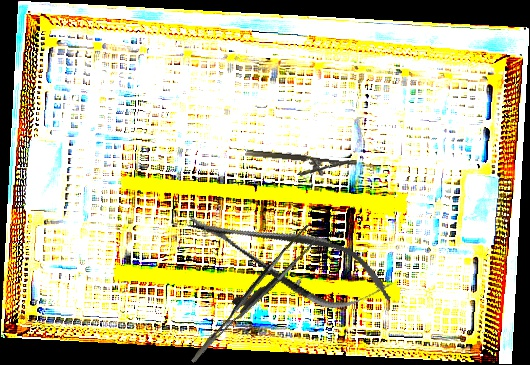Micro Scissor: (177, 186, 403, 331)
Needle Holder: (243, 148, 358, 182)
Tissue Forceps: (170, 223, 332, 364)
